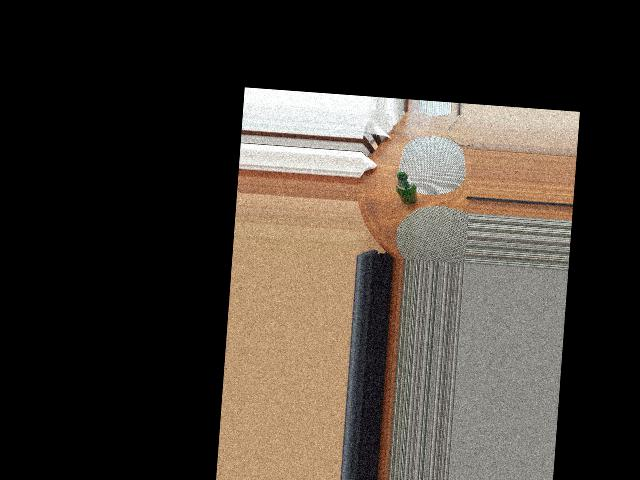beer: (394, 171, 418, 205)
